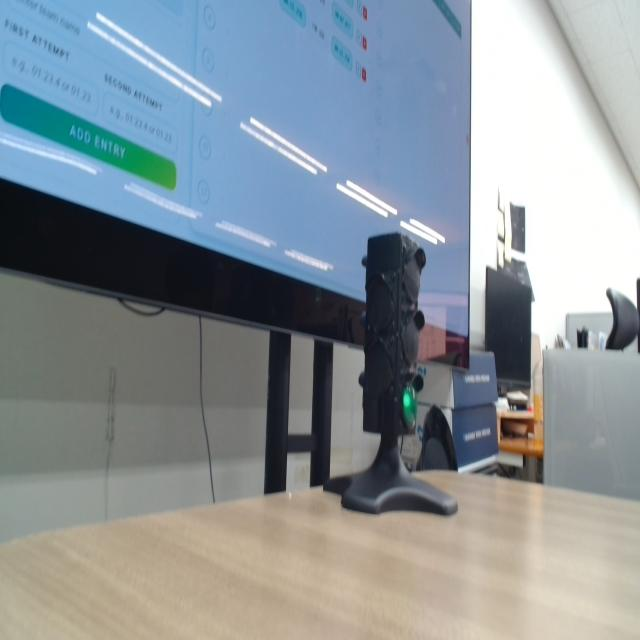green_light: (403, 386, 417, 427), (403, 391, 411, 407)
